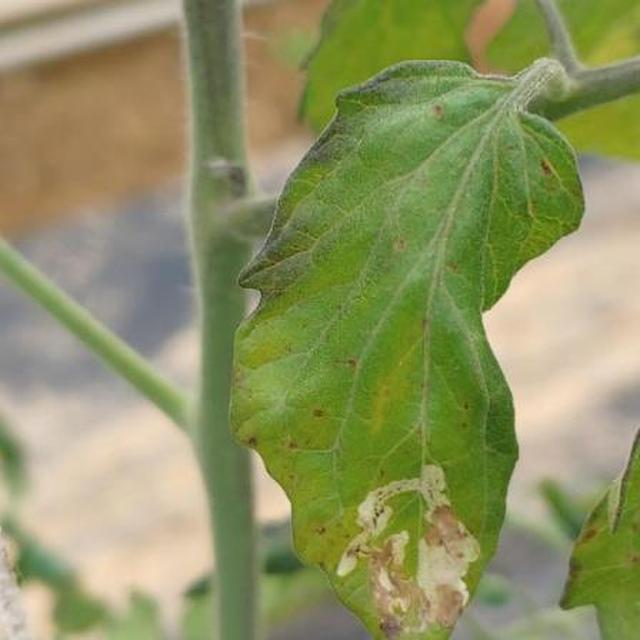Leaf Miner: (332, 180, 640, 640)
